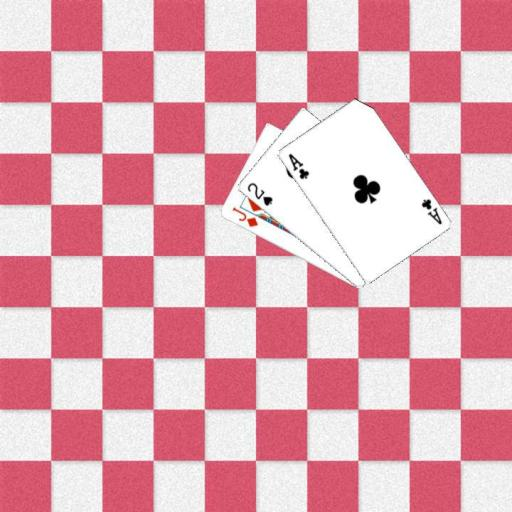2S: (244, 179, 274, 208)
AC: (285, 150, 311, 181), (417, 196, 443, 226)
JD: (229, 204, 259, 229)
